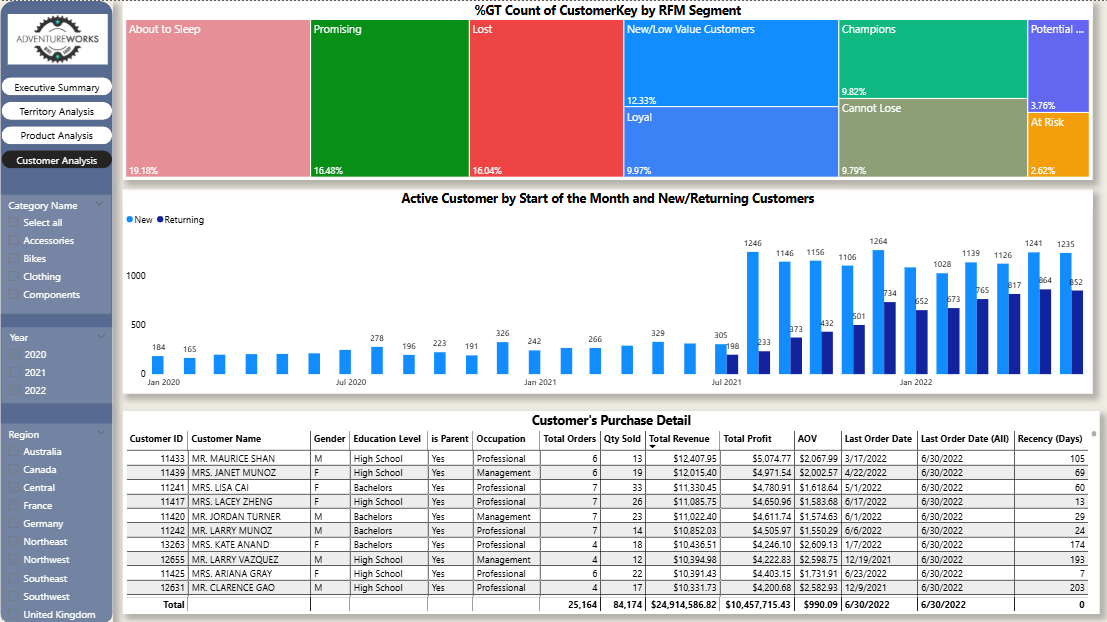

The page's visual inventory and layout, read from the dashboard file:
{"tool":"powerbi","page":{"name":"Customer Analysis","canvas":[1800,1000],"ordinal":4},"visuals":[{"type":"shape","box":[17.5,0,180,1000],"z":0},{"type":"image","box":[30,0,160,122.5],"z":1000},{"type":"slicer","fields":{"Values":["DimProduct Categories.Category Name"]},"box":[11.4,325.7,178.6,190],"z":2000},{"type":"slicer","fields":{"Values":["DimDate.Year"]},"box":[20,500,177.1,157.1],"z":3000},{"type":"slicer","fields":{"Values":["DimTerritory.Region"]},"box":[20,640,177.5,360],"z":4000},{"type":"pageNavigator","box":[20,122.9,177.1,148.6],"z":5000},{"type":"tableEx","title":"Customer''s Purchase Detail","fields":{"Values":["DimCustomer.CustomerKey","DimCustomer.Full Name","DimCustomer.Gender","DimCustomer.Highest Level of Education Level","DimCustomer.Parent","DimCustomer.Occupation","_Measures.Total Orders","_Measures.Quantity Sold","_Measures.Total Revenue","_Measures.Total Profit","_Measures.AOV","_Measures.Last Order Date"]},"box":[213.3,656.7,1563.3,325],"z":6000},{"type":"clusteredColumnChart","fields":{"Category":["DimDate.Start of the Month"],"Y":["_Measures.Active Customer"],"Series":["FactSales.New/Returning Customers"]},"box":[213.3,301.7,1551.7,326.7],"z":7000},{"type":"treemap","fields":{"Group":["RFM Segment.RFM Segment"],"Values":["CountNonNull(RFM Table.CustomerKey)"]},"box":[213.3,0,1551.7,286.7],"z":8000}]}

Visuals, with their boxes on the page's 1800x1000 design canvas (x1, y1, x2, y2). These are canvas units, not pixel positions in the 1107x622 screenshot, which may show the page scaled, cropped or inside an application window:
shape: 18 0 198 1000
image: 30 0 190 122
slicer - DimProduct Categories.Category Name: 11 326 190 516
slicer - DimDate.Year: 20 500 197 657
slicer - DimTerritory.Region: 20 640 198 1000
pageNavigator: 20 123 197 272
"Customer''s Purchase Detail" tableEx: 213 657 1777 982
clusteredColumnChart - DimDate.Start of the Month x _Measures.Active Customer: 213 302 1765 628
treemap - RFM Segment.RFM Segment x CountNonNull(RFM Table.CustomerKey): 213 0 1765 287
